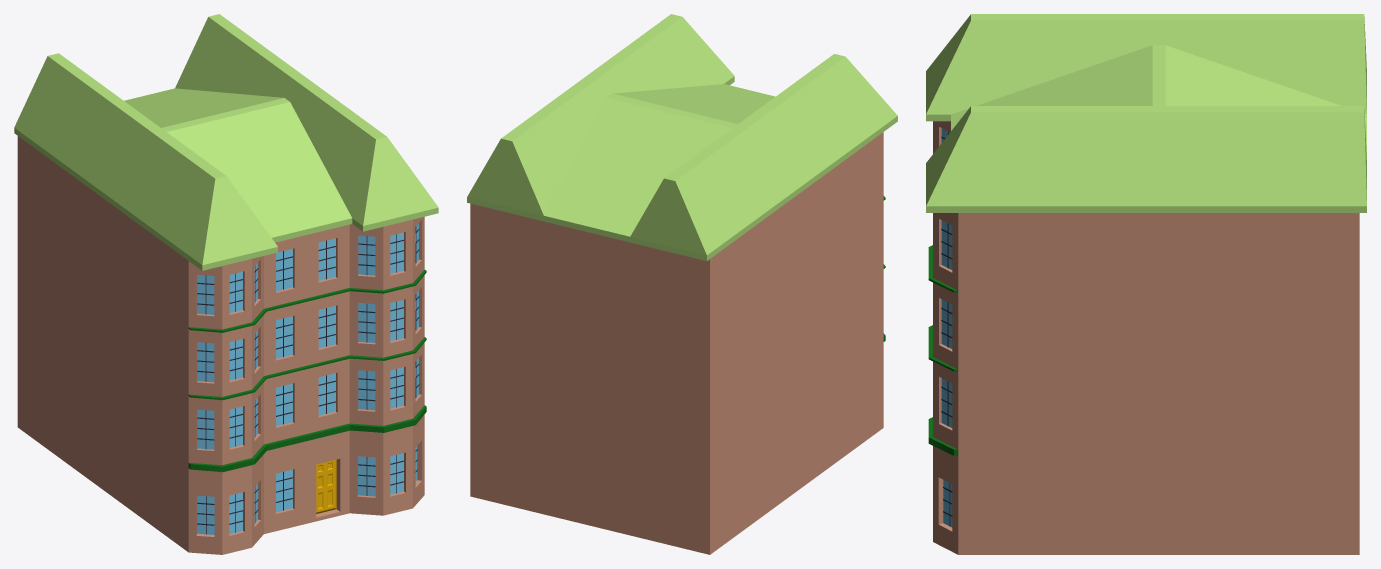
Rendered from HouseB_WithMultiMaterial.fbx.
The picture shows the model from 3 angles, left to right: view 1: azimuth 30°, elevation 25°; view 2: azimuth 150°, elevation 25°; view 3: azimuth 270°, elevation 25°; orthographic projection. The views are drawn at different scales.
Parts seen in each view (by area): view 1: HouseB_Remesh; view 2: HouseB_Remesh; view 3: HouseB_Remesh.
Part boxes in pixels (box(x1,y1,x2,y2)): HouseB_Remesh: box(14, 14, 438, 554); HouseB_Remesh: box(467, 14, 897, 554); HouseB_Remesh: box(926, 14, 1366, 554).
Size of the model in its own units: 110 by 161 by 152.
